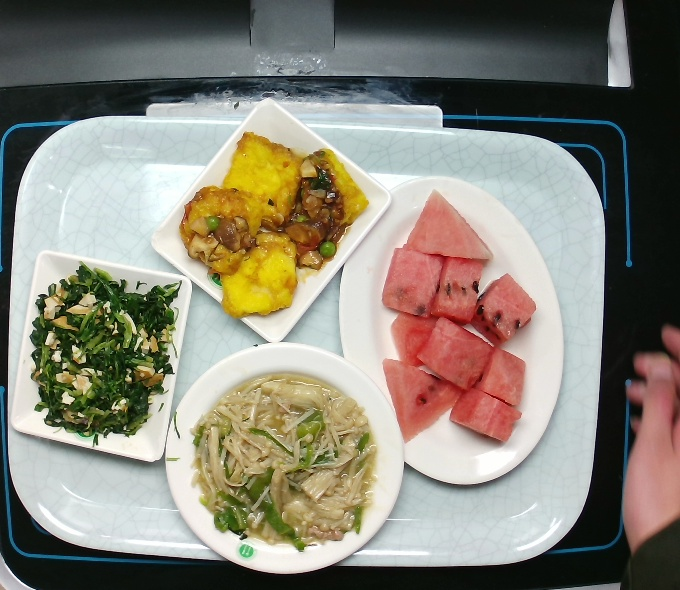wcq-CuiPiDouFu: (179, 129, 371, 319)
wcq-JinZhenGu: (189, 369, 375, 547)
wcq-MaLanTouChaoDouGan: (29, 264, 175, 442)
wcq-XiGua: (379, 187, 537, 444)
